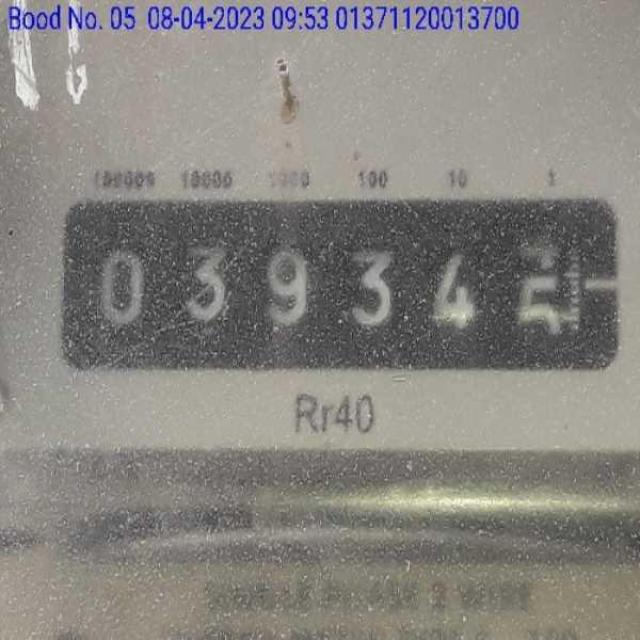0: (74, 216, 161, 362)
3: (158, 218, 253, 359), (334, 219, 409, 355)
4: (411, 217, 501, 356)
9: (255, 220, 332, 359)
analog meter: (64, 203, 622, 373)
